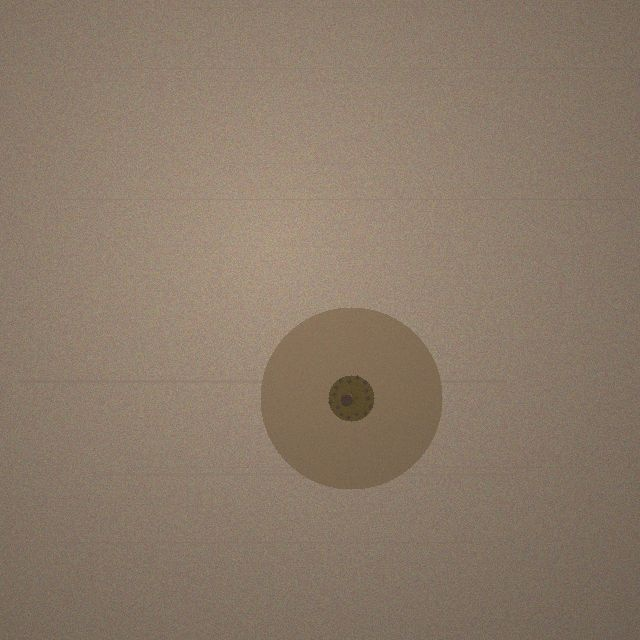cold_weld: (260, 307, 442, 489)
